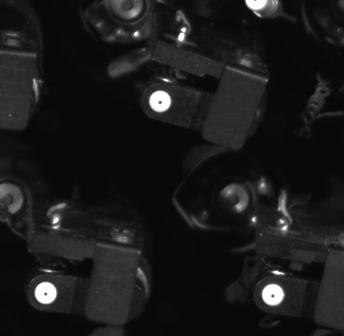fiber: (255, 279, 290, 313), (29, 275, 62, 310), (142, 85, 176, 118), (240, 1, 276, 13)
